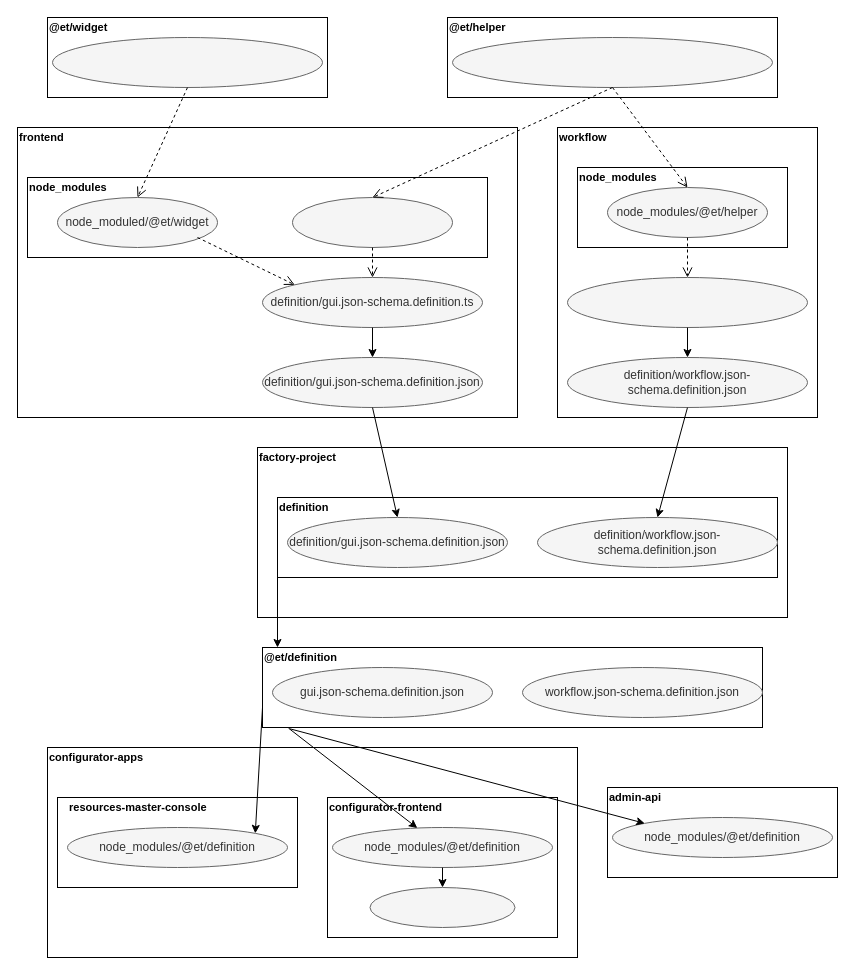
Image size: 855x975. Some labels were removed from this diagram. Each missing label, with the centre of its shape:
"assets/definition" belongs at point 442,907.
"definition/workflow.json-schema.definition.ts" belongs at point 687,302.
"node_moduled/@et/helper" belongs at point 372,222.
"src/core/helper/%helperName%/from-context.definition.ts" belongs at point 612,62.
"src/lib/widget/%widgetName%/table.definition.ts" belongs at point 187,62.
